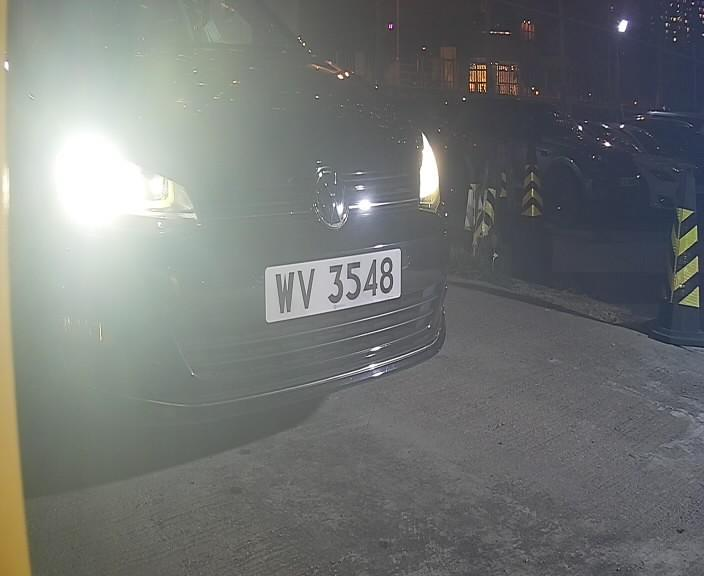privatecar: (2, 7, 475, 447)
